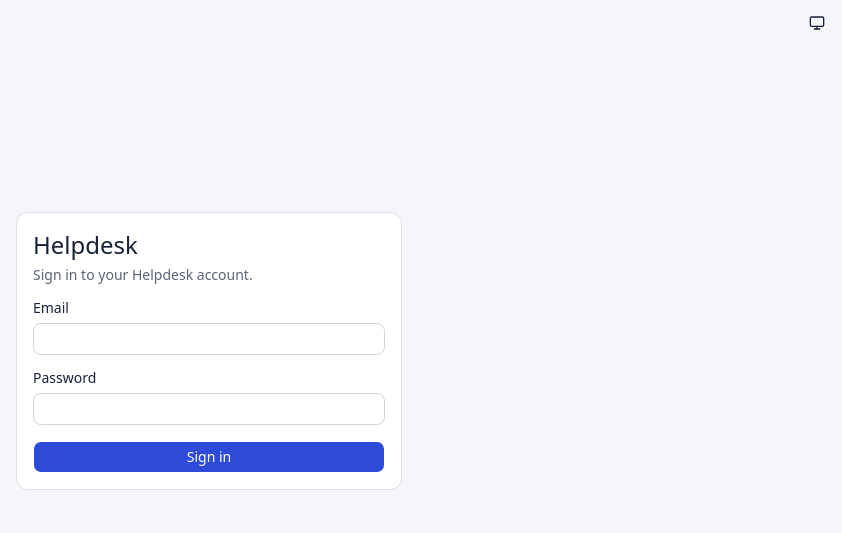
LoginPage › shows the server's error message and stays on the page
Type "agent@example.com" into the field labelled "Email". click: [209, 339]
box: [33, 323, 385, 355]
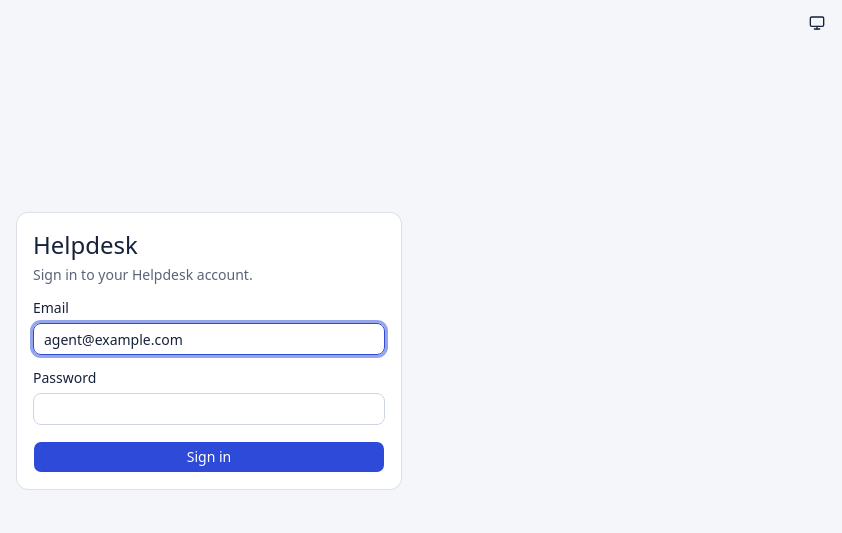
Type "wrong-password" into the password field labelled "Password". click: [209, 409]
box: [33, 393, 385, 425]
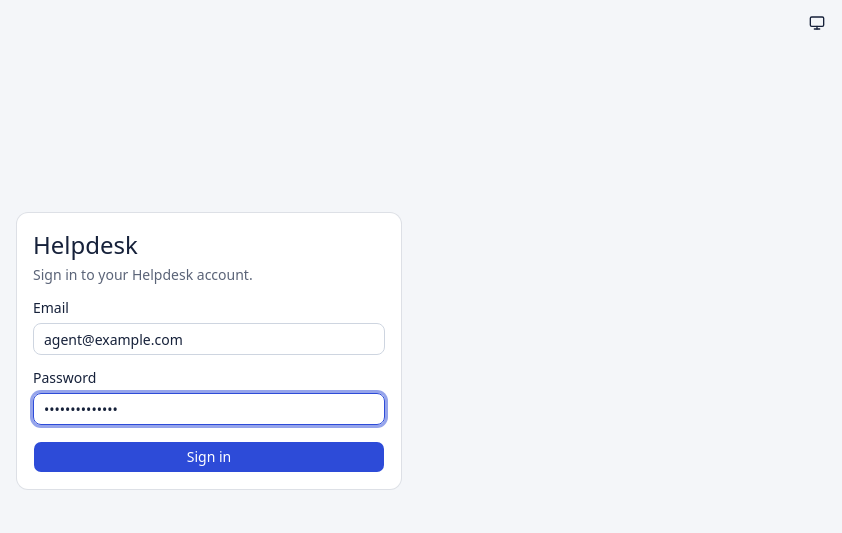
Click the button "Sign in". click: [209, 457]
box: [33, 441, 385, 473]
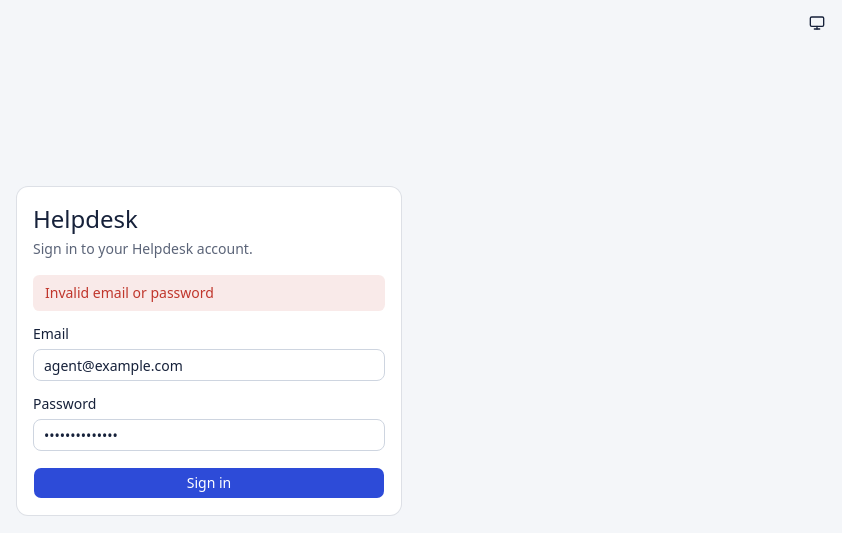
Expected: the message reads "Invalid email or password", [45, 283, 214, 302]
